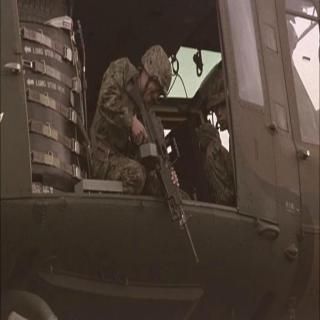gun: (120, 79, 203, 276)
